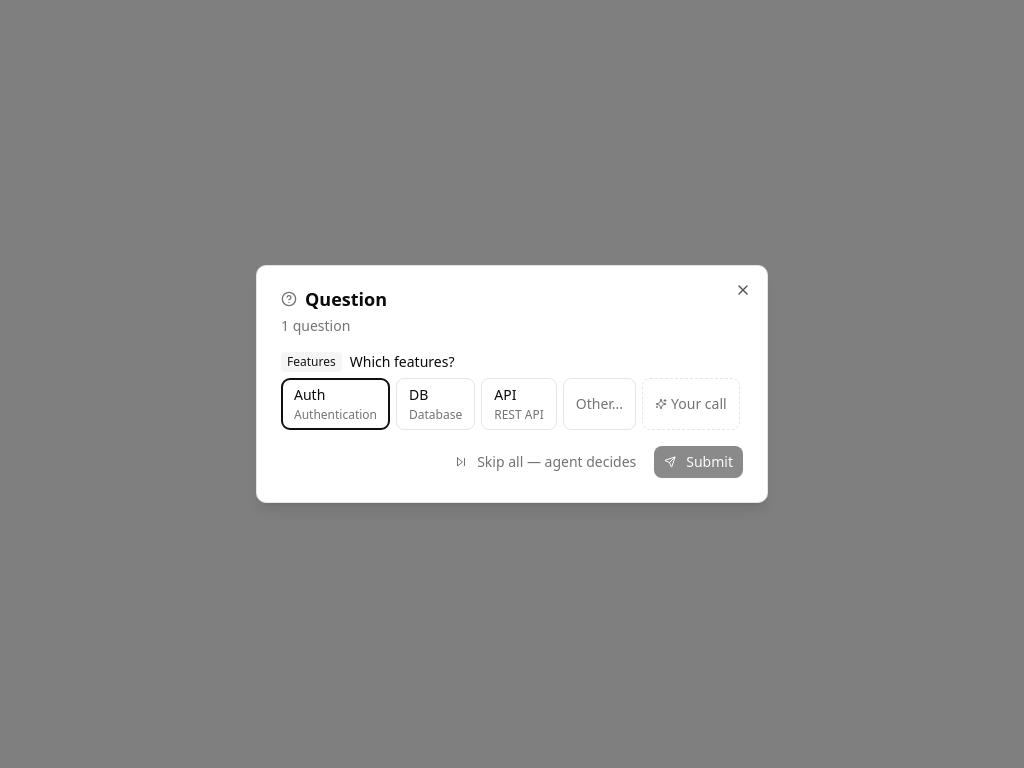
Test case: AskUserDialog › compact mode (1-2 questions) › multi-select › deselecting all disables submit
Click the text "Auth".
click(310, 395)  # box top-left (294, 385), bottom-right (325, 405)
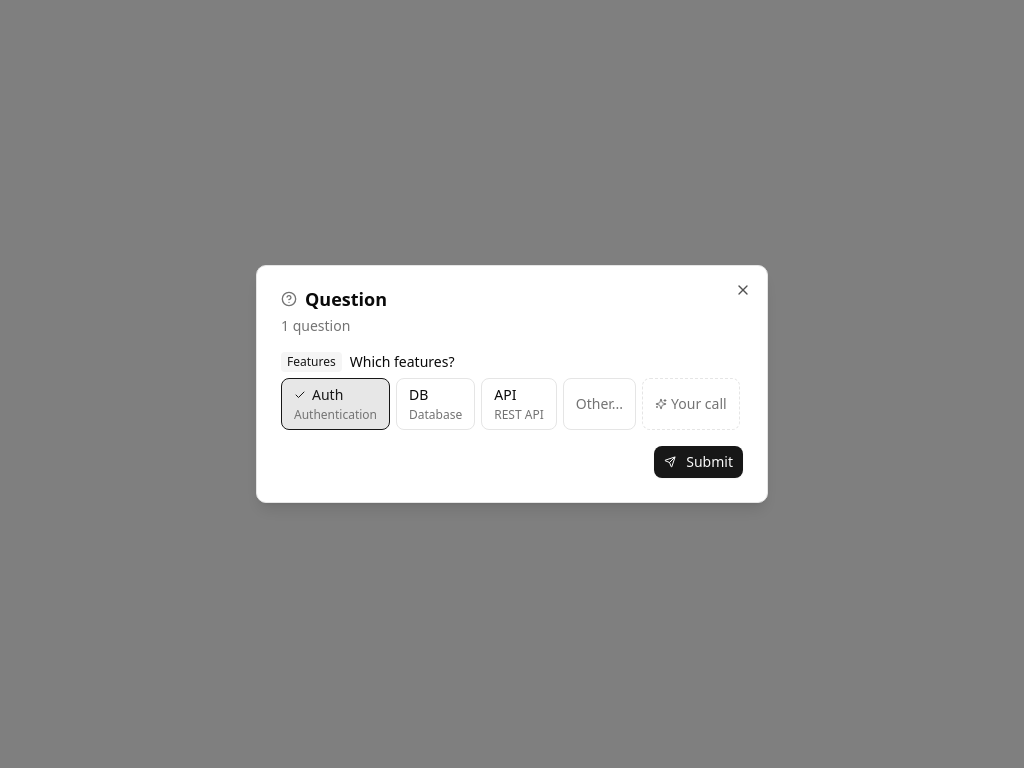
Click the text "Auth".
click(328, 395)  # box top-left (312, 385), bottom-right (343, 405)
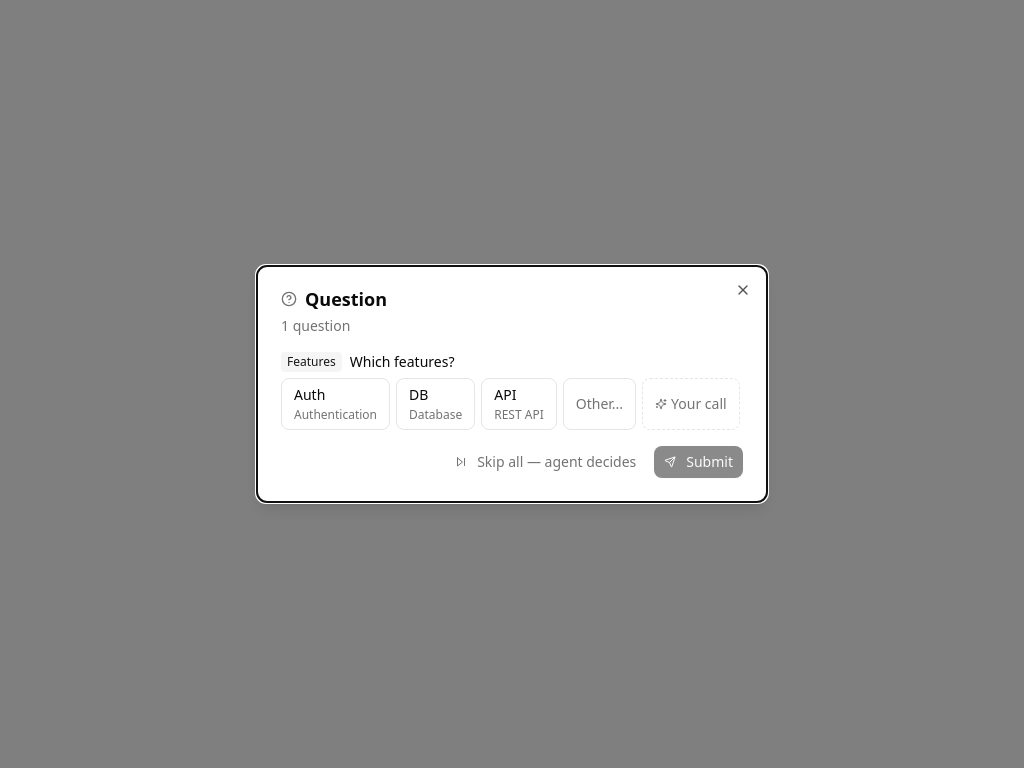
Check: the button "Submit" is disabled, box top-left (654, 446), bottom-right (743, 478)
